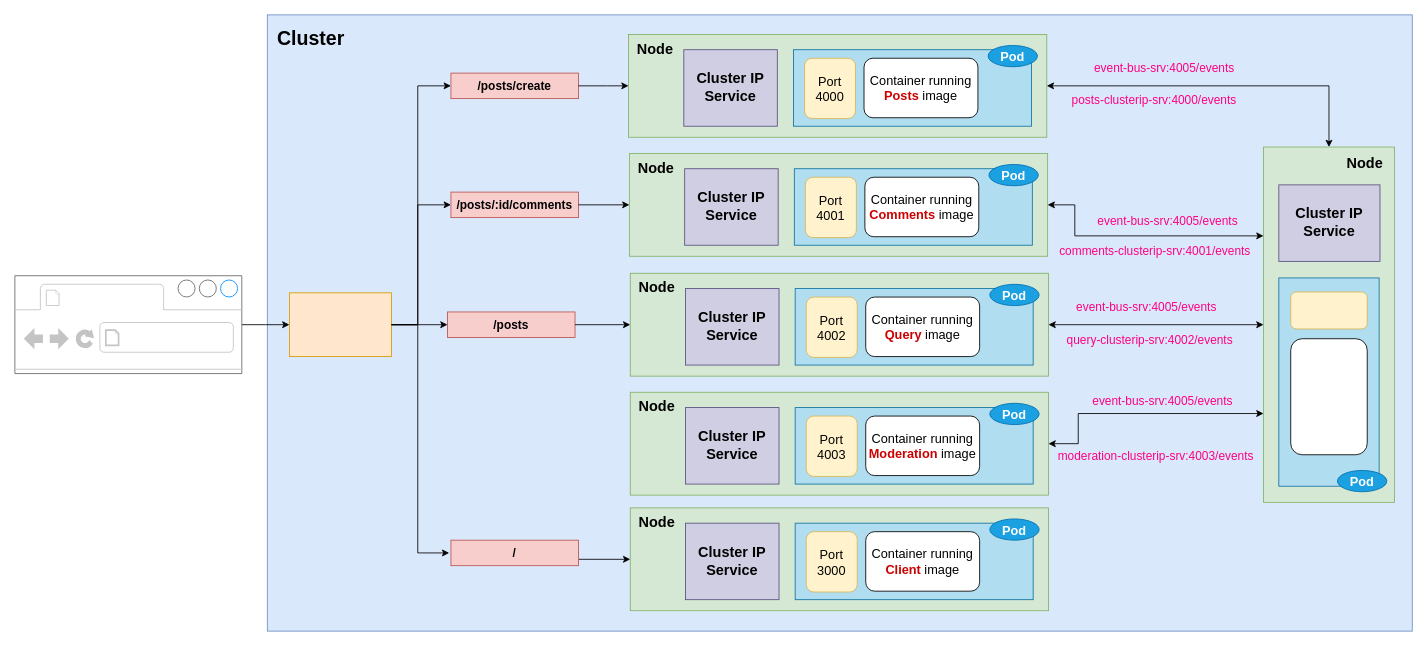
This 1427x646 diagram has some shape labels left out. The box of each missing label's shape, as (x1, y1, x2, y2) in pixels:
Container running Event-Bus image: (1290, 338, 1367, 455)
https://blog.com: (121, 326, 238, 349)
Ingress Controller: (289, 292, 391, 357)
Page 1: (65, 285, 159, 308)
Port 4005: (1290, 291, 1367, 329)
